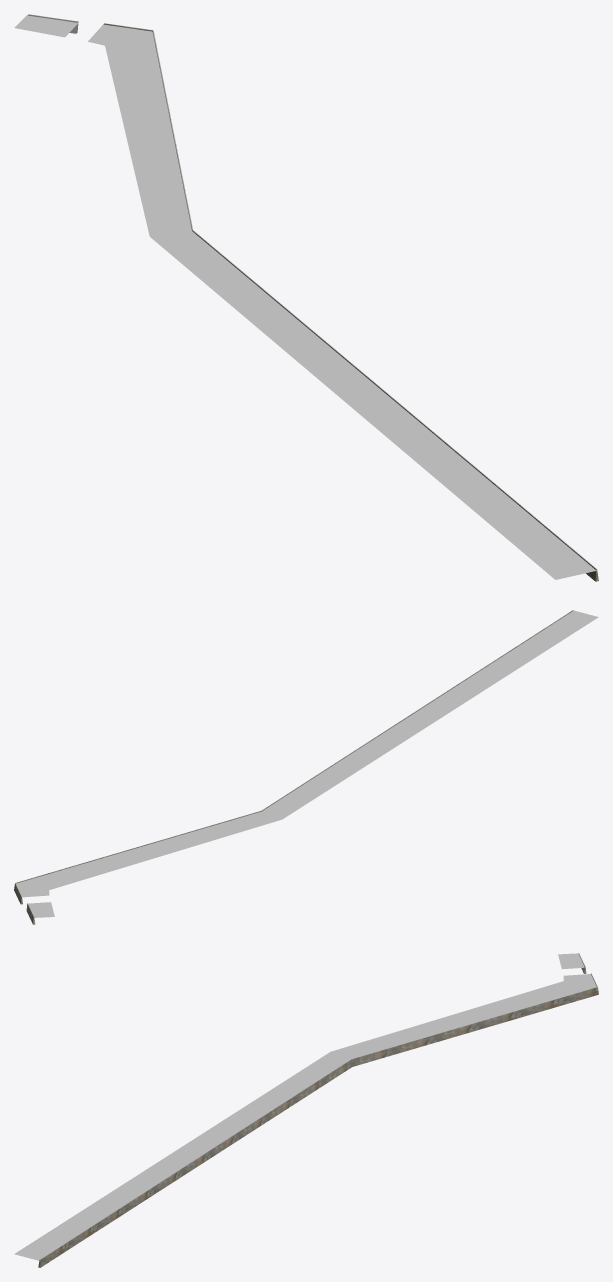
File: riverroad_p10_02.fbx
3 views of the same model, one above another, from view 1: azimuth 30°, elevation 25°; view 2: azimuth 150°, elevation 25°; view 3: azimuth 330°, elevation 25° (orthographic). The views are drawn at different scales.
Parts seen in each view (by area): view 1: RiverRoad_p10_02; view 2: RiverRoad_p10_02; view 3: RiverRoad_p10_02.
Part boxes in pixels (x1,y1,x2,y2): RiverRoad_p10_02: [14, 14, 598, 581]; RiverRoad_p10_02: [14, 610, 598, 924]; RiverRoad_p10_02: [14, 953, 598, 1267].
Bounding box in the file's own units: 12681 × 540 × 59648.
